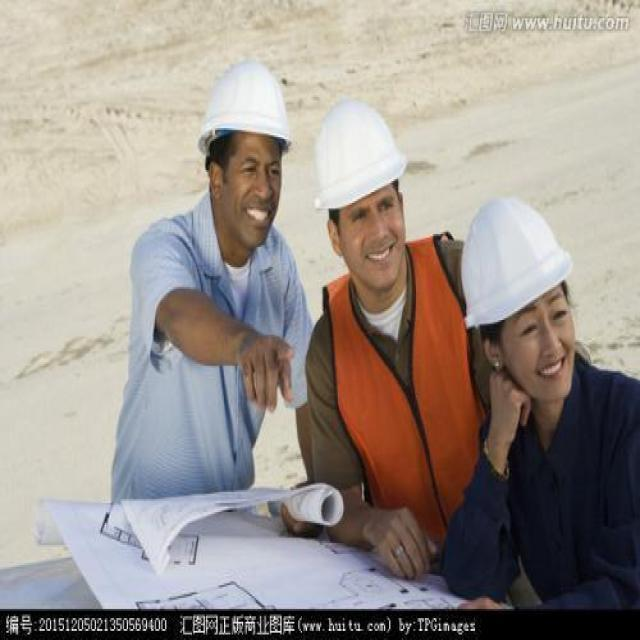hat: (446, 183, 584, 415), (302, 88, 420, 296), (188, 47, 304, 258)
